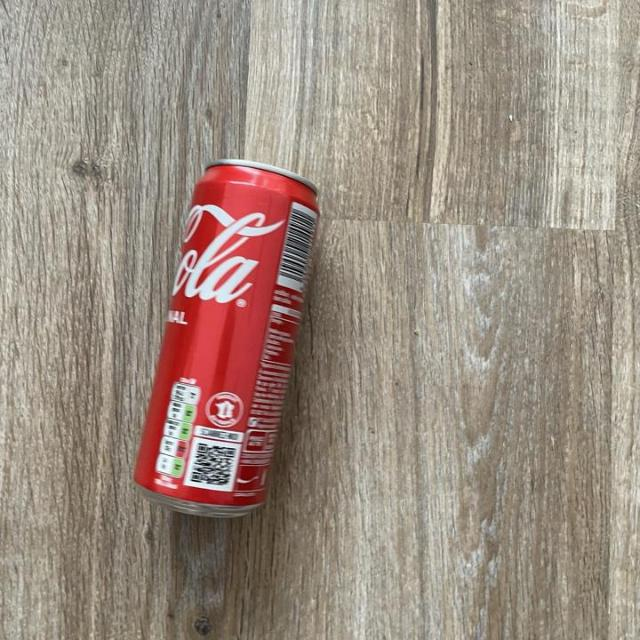can: (124, 142, 336, 540)
